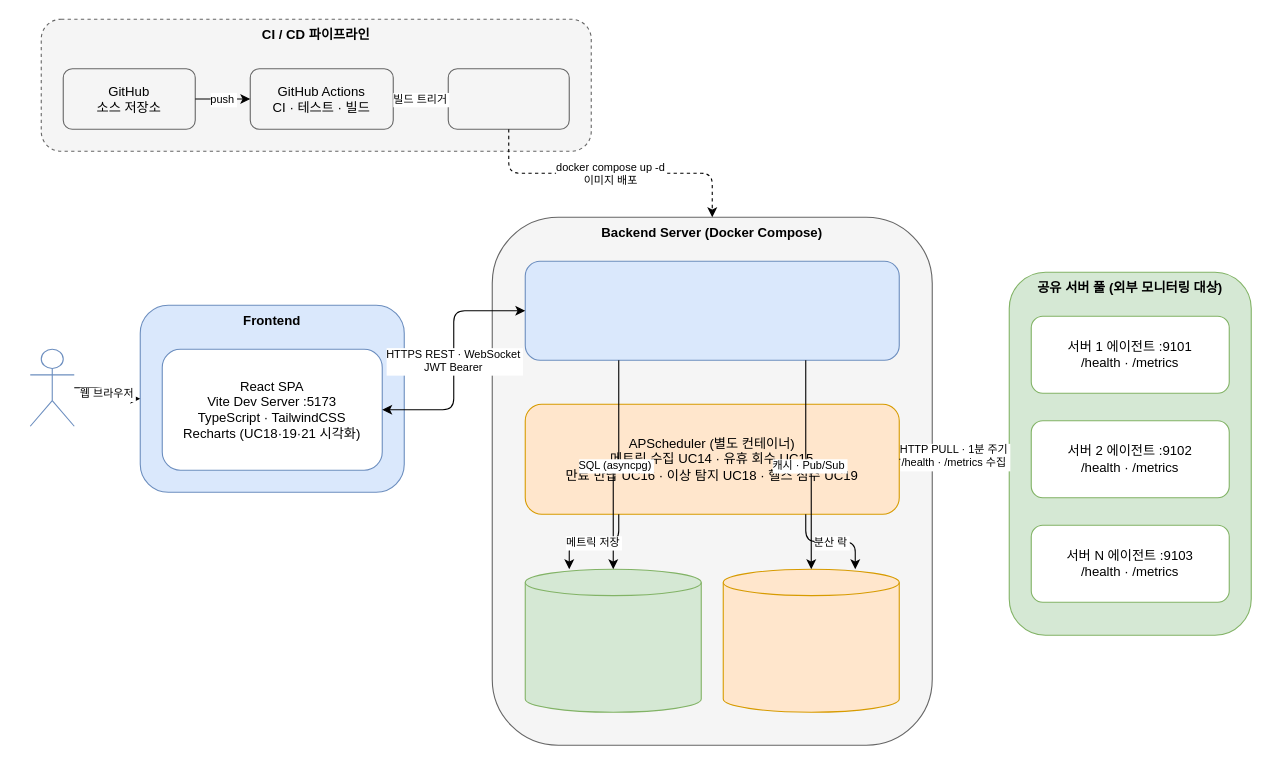
This 1271x765 diagram has some shape labels left out. Here are the shapes that lost their labels. From the top down, the centre of each, then its label:
the point at 508,98: Docker 이미지 빌드
the point at 711,310: FastAPI :8000 REST · WebSocket API 예약 · 승인 · 서버 · 인증
the point at 51,387: Client 학생 · 관리자
the point at 612,640: PostgreSQL 16 :5432 메인 데이터 저장소 사용자 · 예약 · 서버 메트릭 · 감사 로그
the point at 810,640: Redis 7 :6379 캐시 · 분산 락 Pub/Sub Rate limit 카운터
